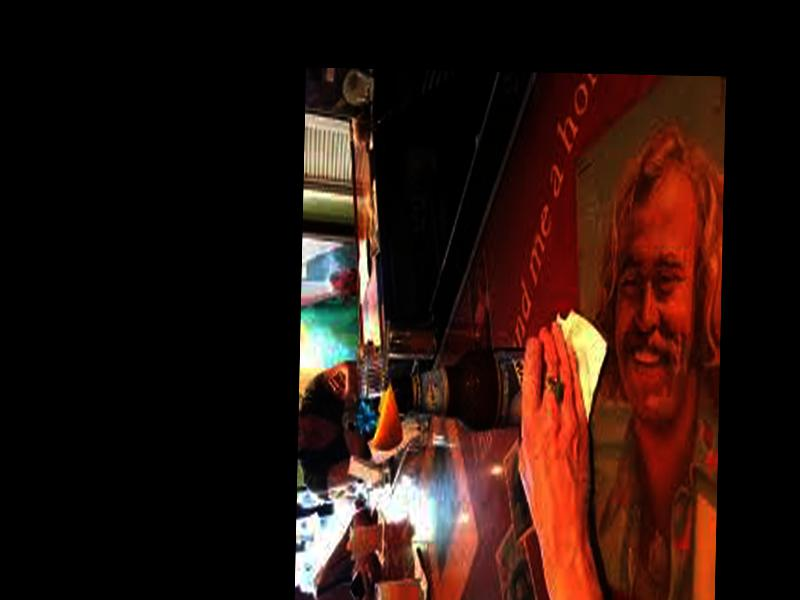Beer: (386, 342, 578, 427)
